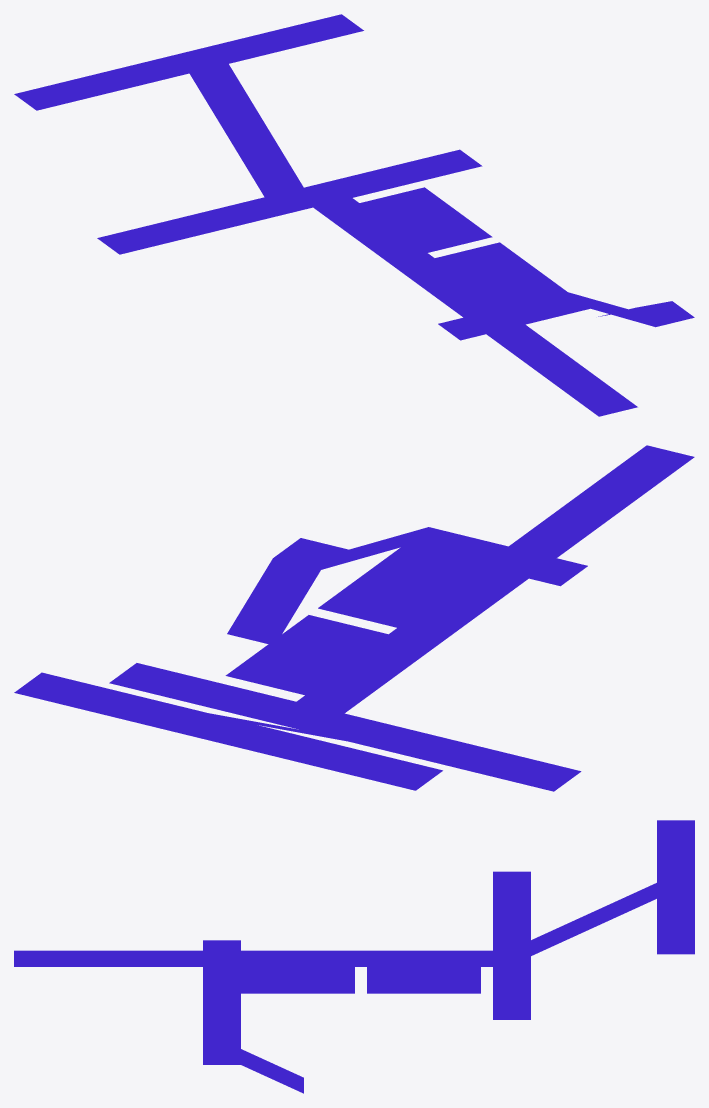
The model's file is SM_Plafond.fbx.
3 renders of one model, top to bottom at view 1: azimuth 30°, elevation 25°; view 2: azimuth 150°, elevation 25°; view 3: azimuth 270°, elevation 25°, orthographic. The views are drawn at different scales.
Parts seen in each view (by area): view 1: plafond_UvDone; view 2: plafond_UvDone; view 3: plafond_UvDone.
Part boxes in pixels (bbox=[...]): plafond_UvDone: bbox=[14, 14, 694, 416]; plafond_UvDone: bbox=[14, 445, 694, 791]; plafond_UvDone: bbox=[14, 820, 694, 1093].
Bounding box in the file's own units: 1544 × 504 × 2702.
